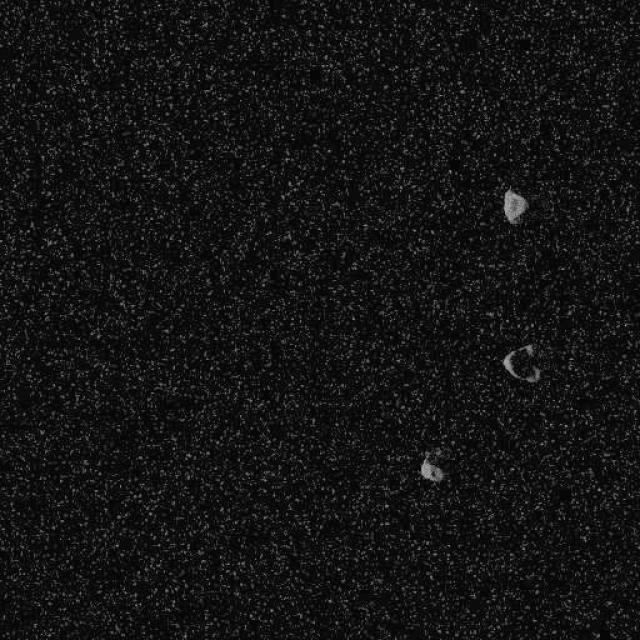D2: (501, 342, 541, 383), (502, 187, 528, 225), (418, 454, 444, 484)
